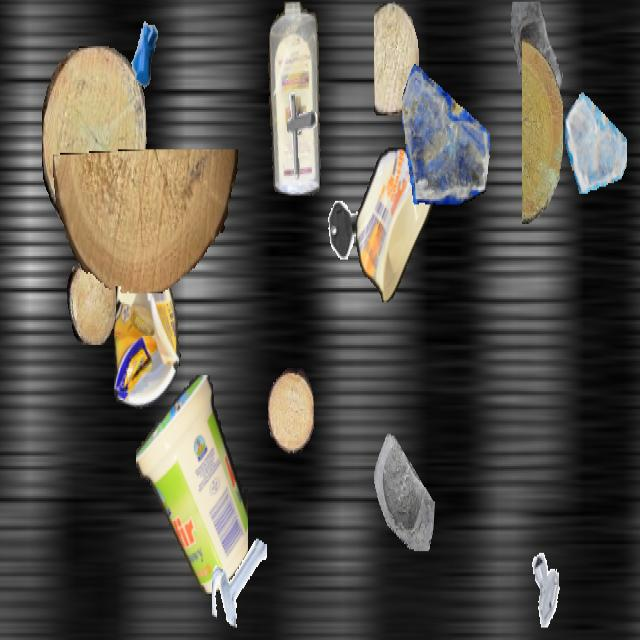glass: (402, 52, 490, 208), (361, 418, 435, 549), (507, 1, 571, 116), (565, 84, 627, 194)
metal: (117, 2, 171, 98), (212, 530, 266, 626), (272, 87, 326, 183), (526, 548, 570, 626), (326, 190, 368, 265), (0, 276, 9, 350)
plastic: (136, 375, 248, 596), (356, 147, 434, 300), (114, 235, 182, 409), (266, 2, 324, 194), (0, 2, 2, 250)
wood: (53, 150, 239, 292), (42, 46, 146, 231), (522, 39, 562, 224), (374, 1, 418, 116), (67, 258, 115, 343), (268, 368, 314, 453)
